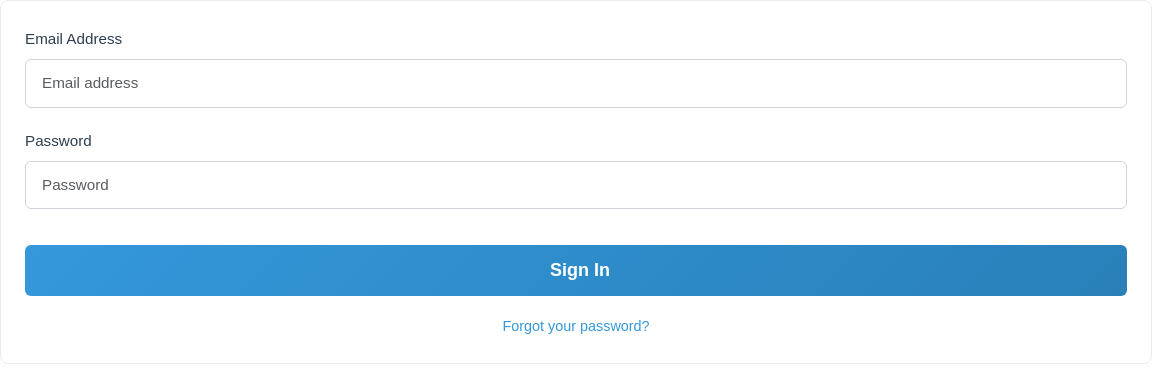
Test: UserLogin › shows loading state while submitting
Type "test@example.com" into the field labelled "Email Address" at (576, 83), box [25,59,1127,108]
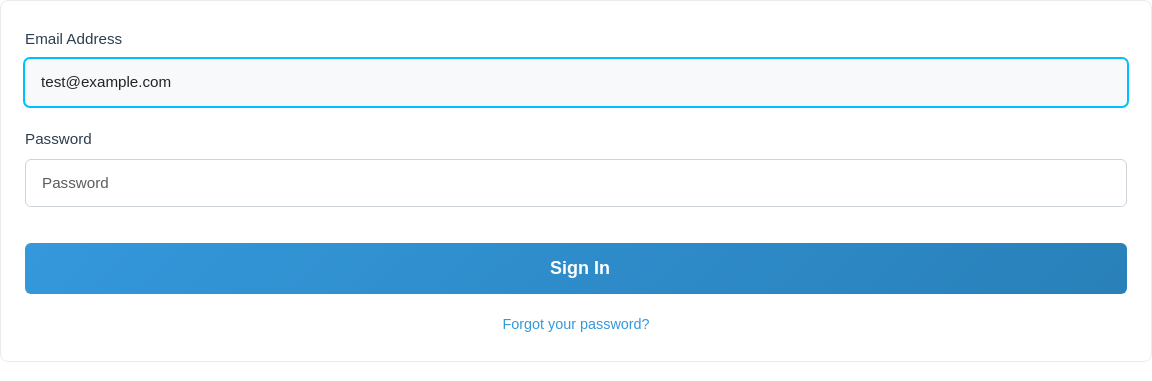
Type "password123" into the password field labelled "Password" at (576, 183), box [25,159,1127,207]
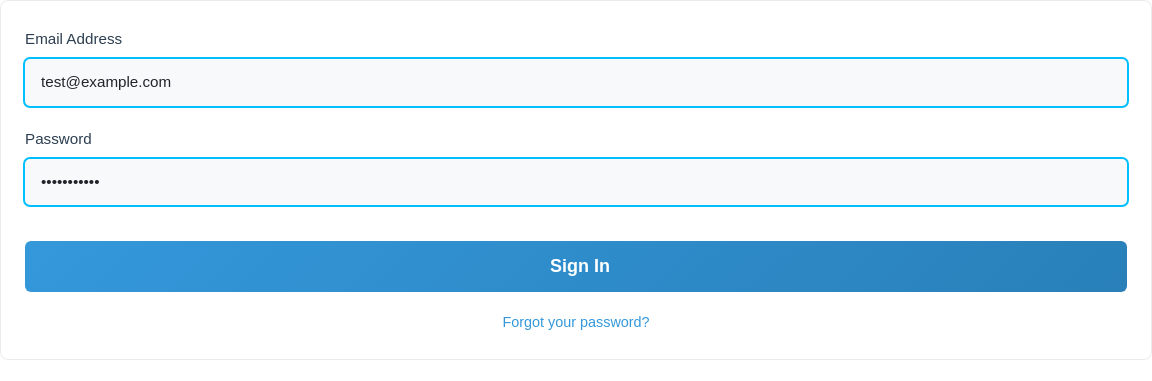
Click the button "Sign In" at (576, 266), box [25,240,1127,292]
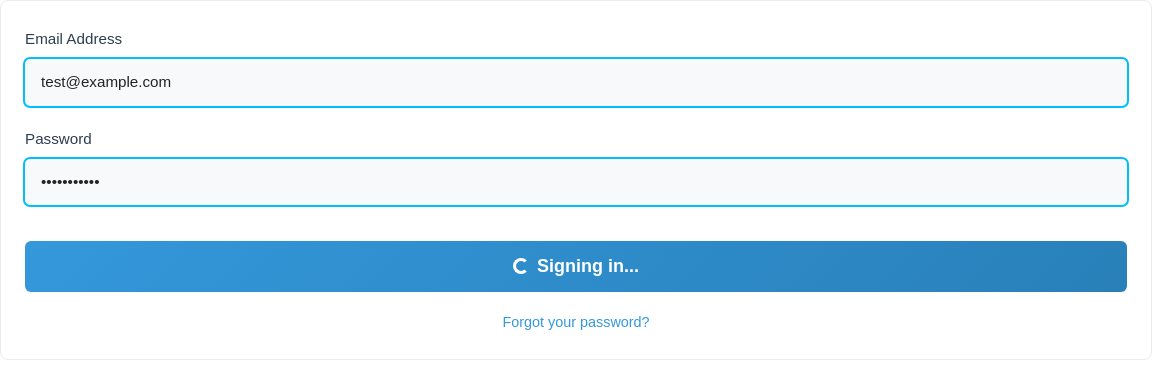
Expected: the button is disabled, [25,240,1127,292]
